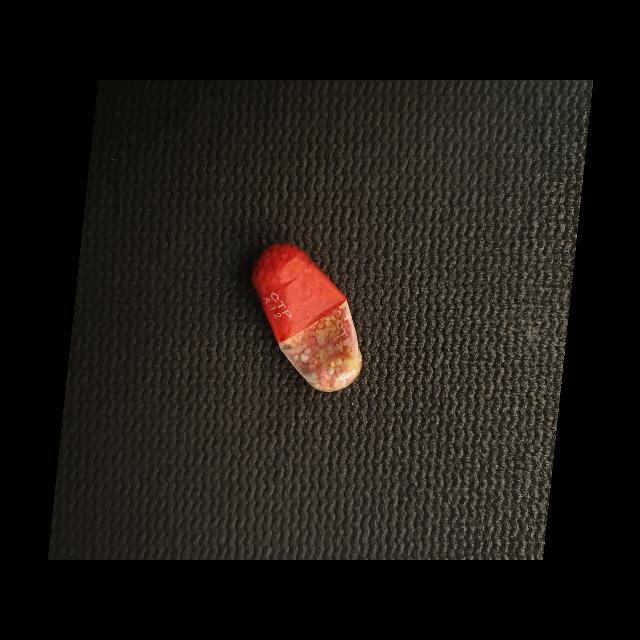Defective Capsule: (252, 243, 362, 392)
